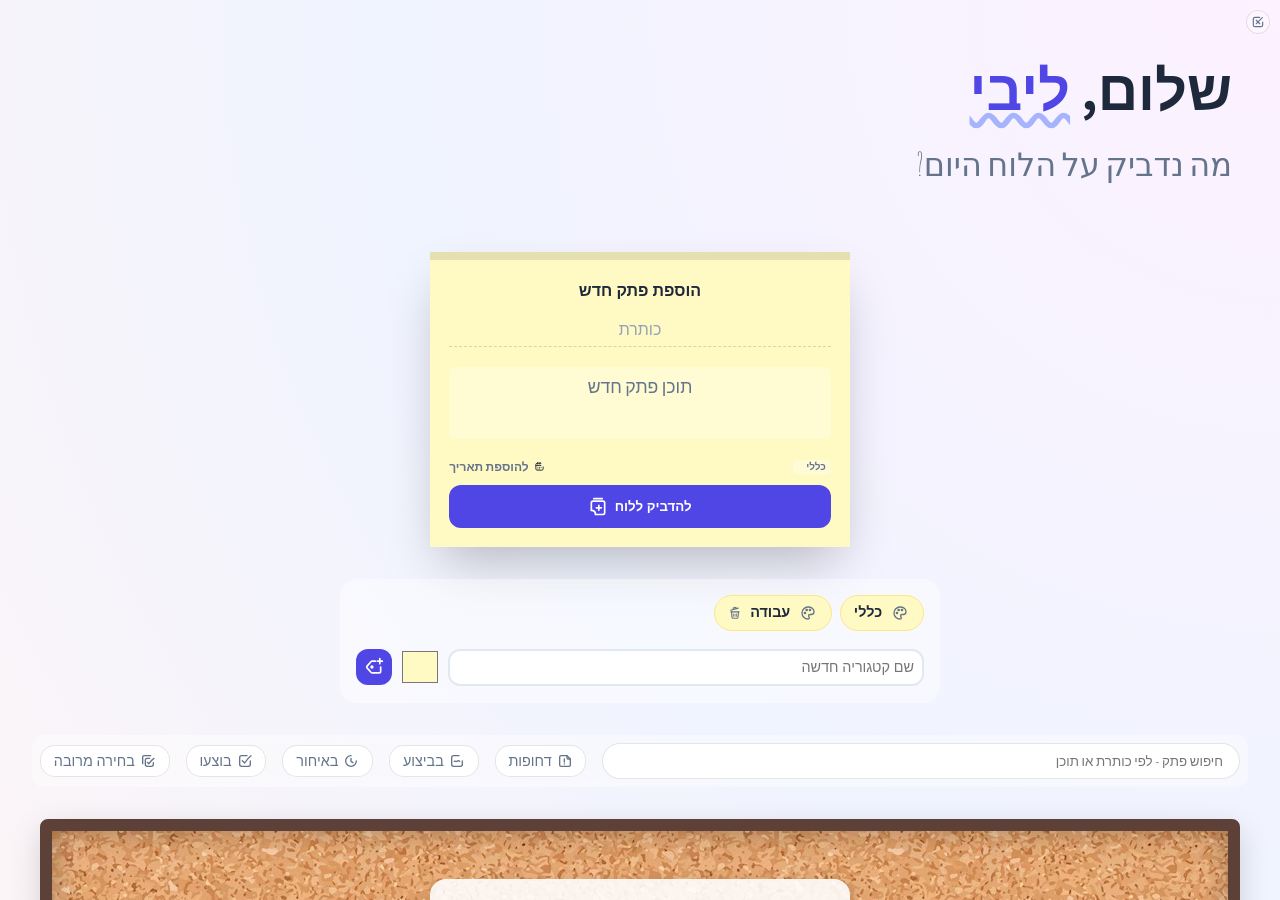
Test case: board and category controls are exposed by name › the add button creates the category typed in the name field
Type "home" into the field labelled "שם קטגוריה חדשה".
click(686, 667); type("home")  # box [448, 649, 924, 686]
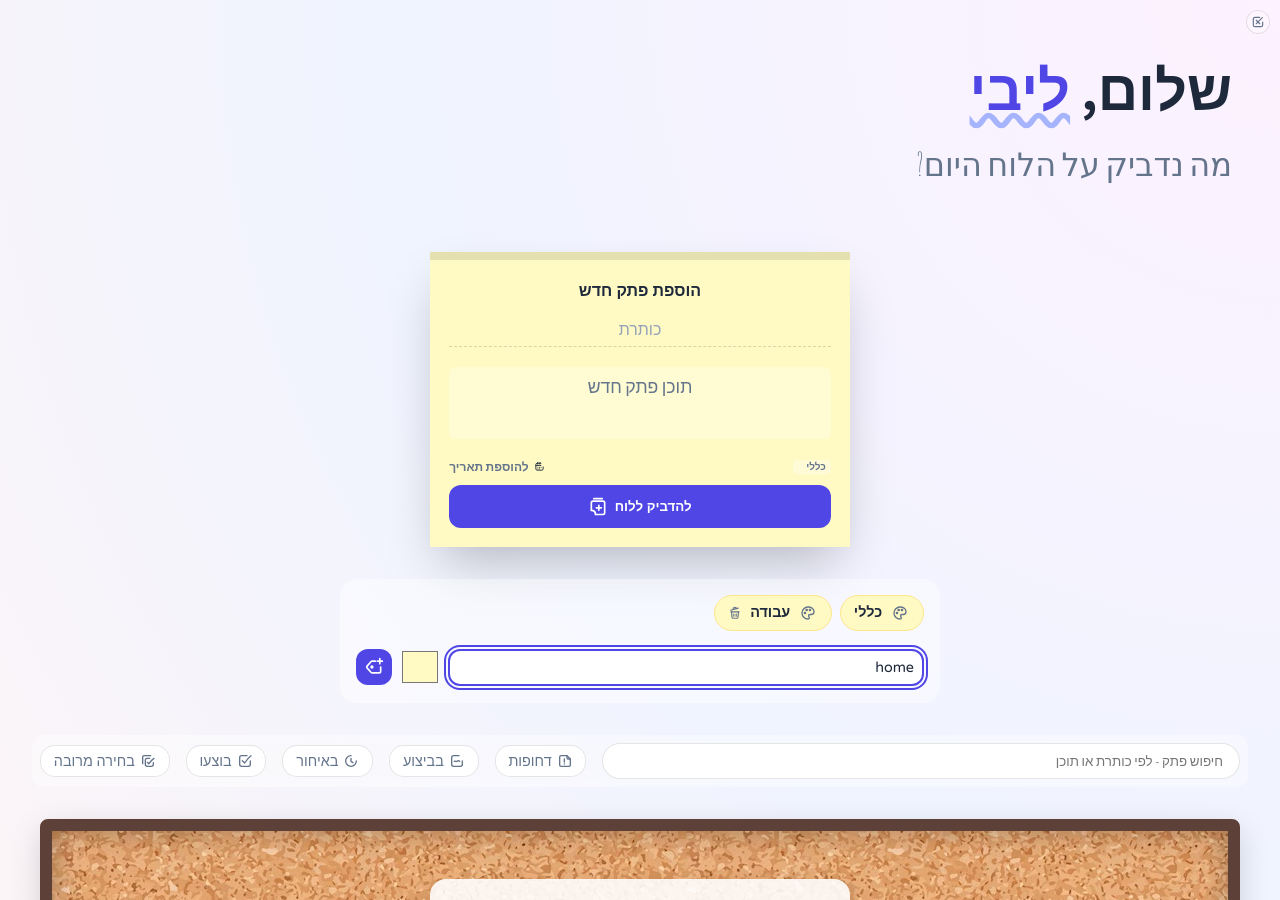
Click the button named "הוספת תווית".
click(374, 667)  # box [356, 649, 392, 685]
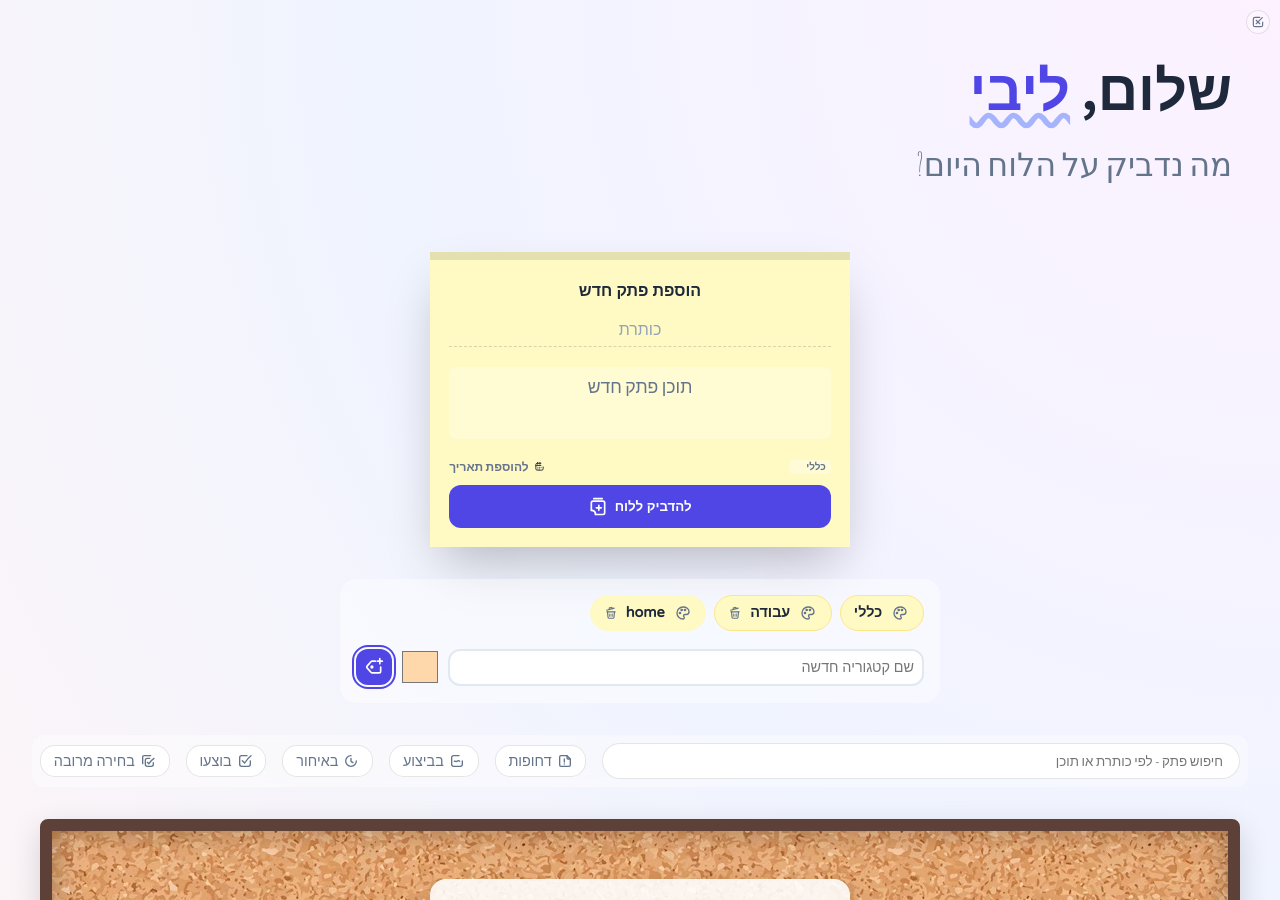
Result: the button "home" is shown at [626, 602, 665, 624]
